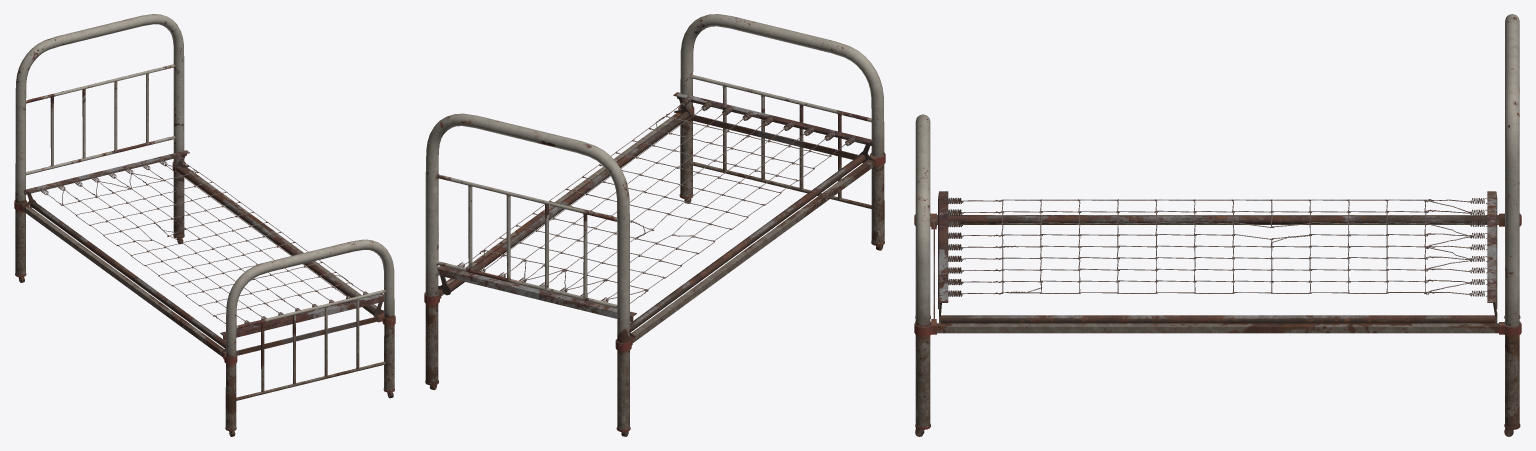
Rendered from old_bed_frame_lod0.glb.
3 renders of one model, left to right at view 1: azimuth 30°, elevation 25°; view 2: azimuth 150°, elevation 25°; view 3: azimuth 270°, elevation 25°, orthographic. The views are drawn at different scales.
Visible parts, largest first — view 1: old_bed_frame; view 2: old_bed_frame; view 3: old_bed_frame.
Boxes of the visible parts, x1,y1,x2,y2 form: old_bed_frame: [14, 14, 395, 436]; old_bed_frame: [424, 14, 885, 436]; old_bed_frame: [914, 14, 1521, 436].
Bounding box in the file's own units: 0.9047 × 1.2 × 2.
1 material, 1 textured.
